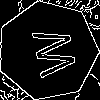W: (23, 25, 77, 81)
